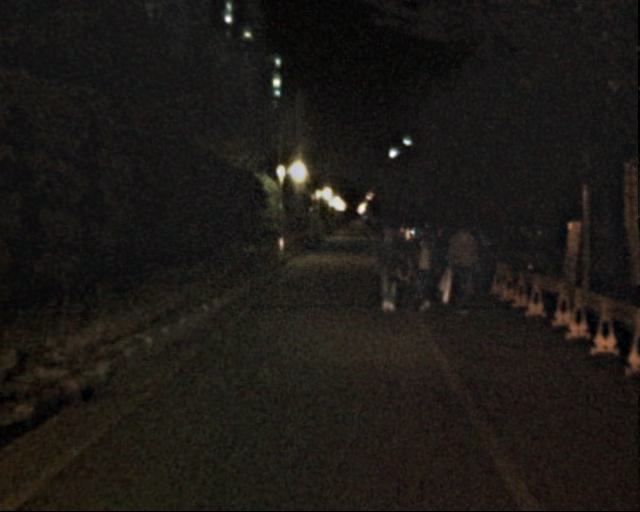person: (442, 221, 482, 319), (368, 225, 406, 318), (401, 225, 436, 311), (419, 231, 448, 302), (468, 227, 497, 298)
